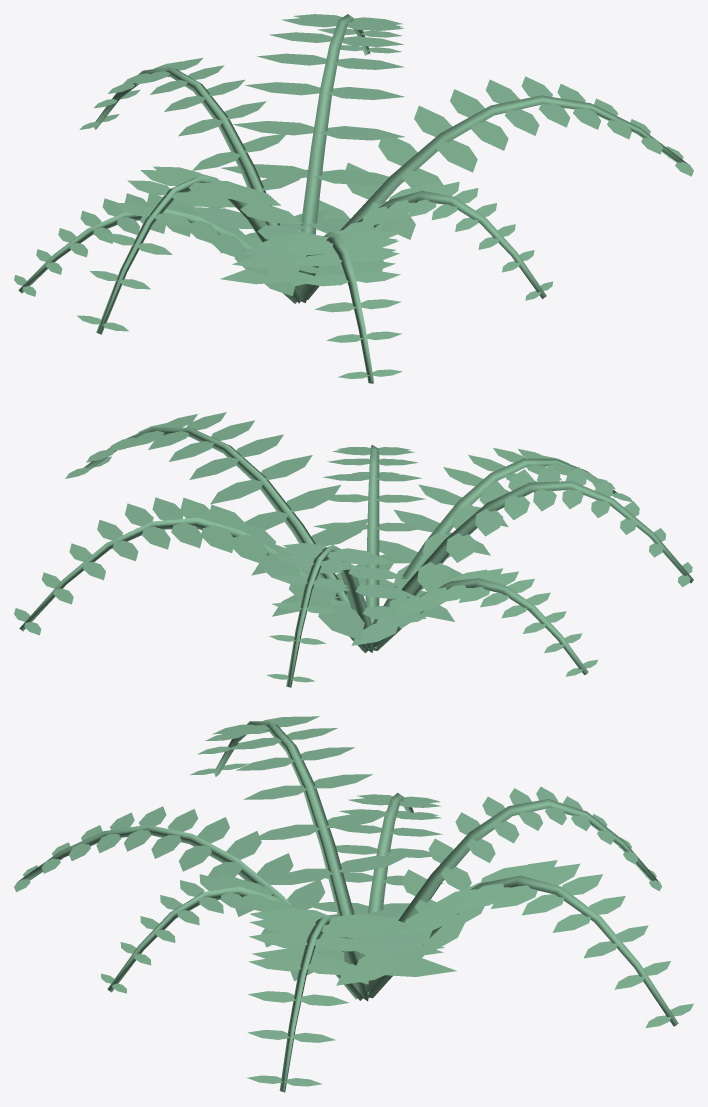
The model's file is fern_B.glb.
3 renders of one model, top to bottom at view 1: azimuth 30°, elevation 25°; view 2: azimuth 150°, elevation 25°; view 3: azimuth 270°, elevation 25°, orthographic. The views are drawn at different scales.
Parts seen in each view (by area): view 1: fern_B; view 2: fern_B; view 3: fern_B.
Boxes of the visible parts, box(x1,y1,x2,y2) form: fern_B: box(14, 14, 693, 383); fern_B: box(14, 412, 693, 687); fern_B: box(14, 716, 693, 1092).
Bounding box in the file's own units: 0.8434 × 0.2423 × 0.7753.
